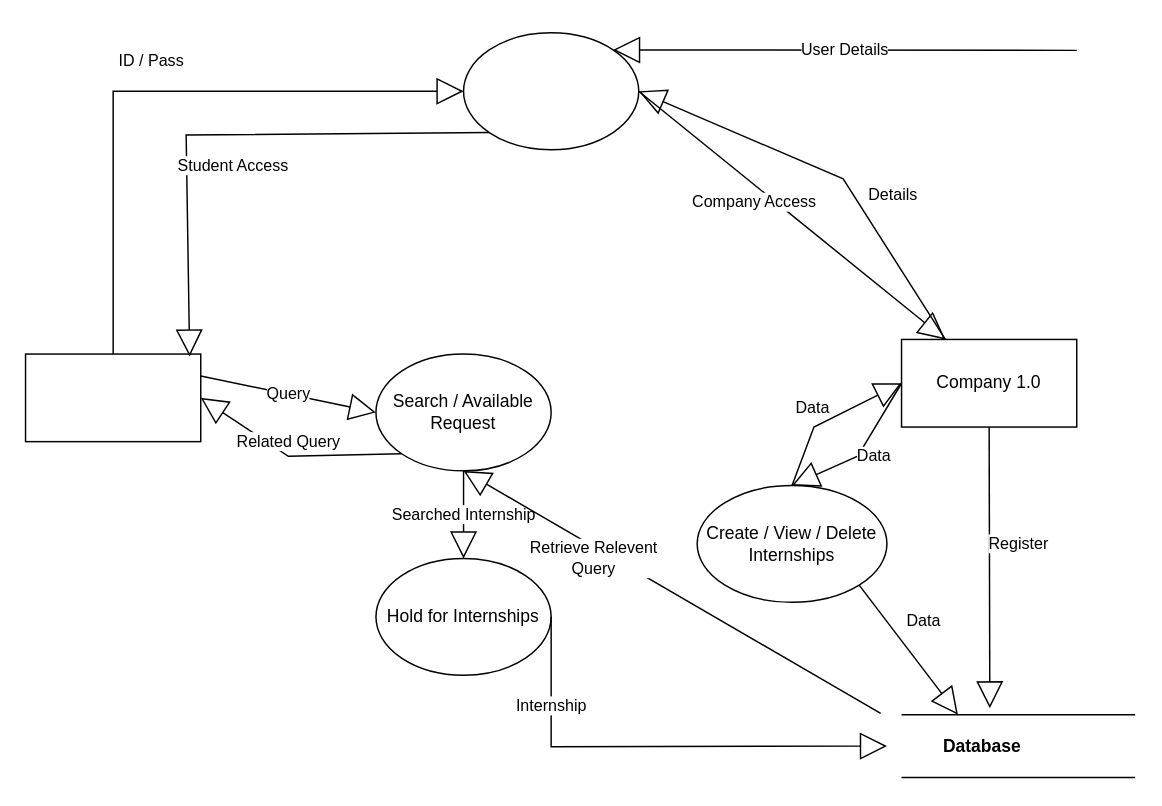
Some shapes in this 1162 by 806 pixel diagram are drawn without their labels. The centre of each missing label's shape, as x and y in pixels:
Authentication 1.0: the point at 550,90
Student 1.0: the point at 112,397
